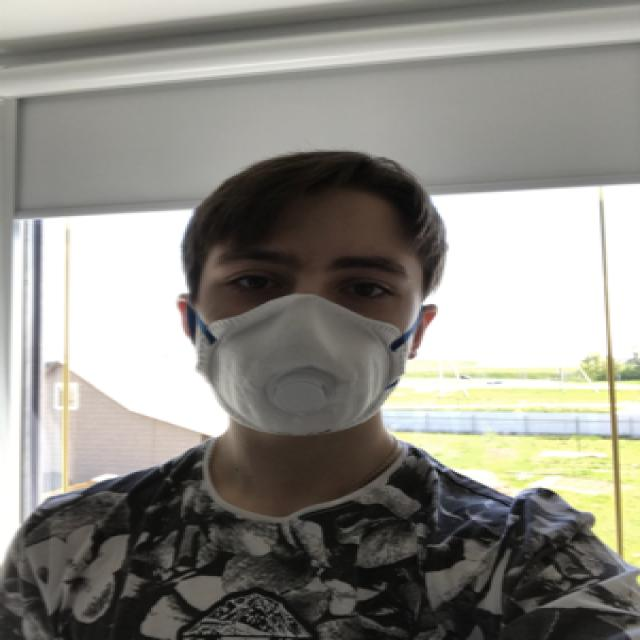with_mask: (185, 229, 429, 435)
